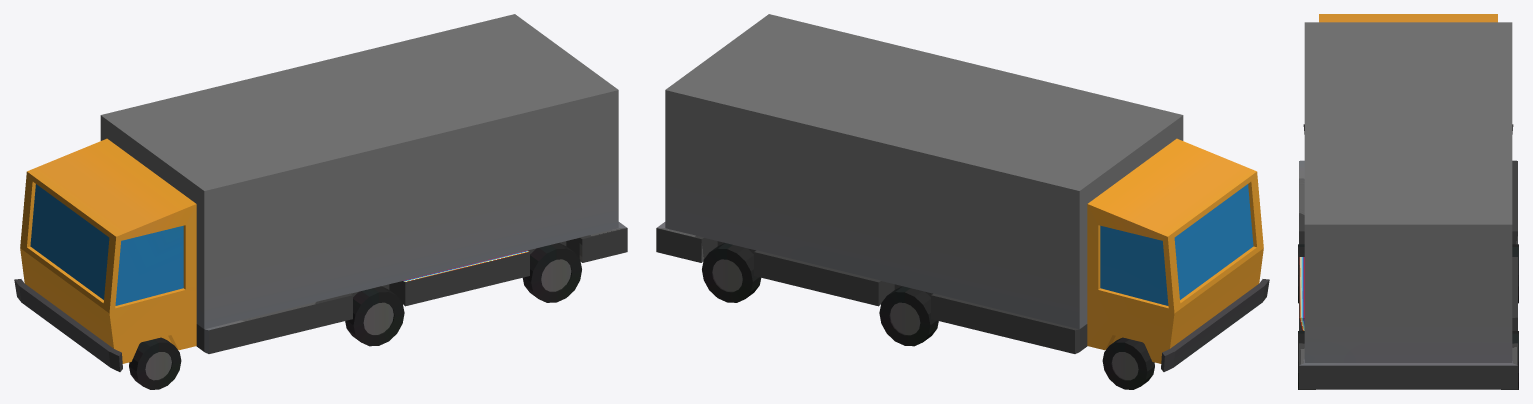
File: Truck1.fbx
3 views of the same model, side by side, from view 1: azimuth 30°, elevation 25°; view 2: azimuth 150°, elevation 25°; view 3: azimuth 270°, elevation 25° (orthographic).
Visible parts, largest first — view 1: Truck1CarriegeColor, Truck1BodyColor, Truck1Body, Truck1Carriege, Truck1Tires; view 2: Truck1CarriegeColor, Truck1BodyColor, Truck1Body, Truck1Carriege, Truck1Tires; view 3: Truck1CarriegeColor, Truck1Carriege, Truck1BodyColor, Truck1Tires.
Boxes of the visible parts, x1=… form: Truck1CarriegeColor: x1=100, y1=14, x2=618, y2=329; Truck1BodyColor: x1=20, y1=138, x2=196, y2=363; Truck1Body: x1=14, y1=184, x2=183, y2=371; Truck1Carriege: x1=196, y1=222, x2=627, y2=353; Truck1Tires: x1=129, y1=243, x2=581, y2=389; Truck1CarriegeColor: x1=665, y1=14, x2=1183, y2=329; Truck1BodyColor: x1=1087, y1=138, x2=1263, y2=363; Truck1Body: x1=1100, y1=184, x2=1269, y2=371; Truck1Carriege: x1=656, y1=222, x2=1087, y2=353; Truck1Tires: x1=702, y1=243, x2=1154, y2=389; Truck1CarriegeColor: x1=1304, y1=22, x2=1512, y2=362; Truck1Carriege: x1=1299, y1=160, x2=1517, y2=389; Truck1BodyColor: x1=1319, y1=14, x2=1497, y2=22; Truck1Tires: x1=1298, y1=244, x2=1518, y2=389.
Size of the model in its own units: 579 by 211 by 217.
